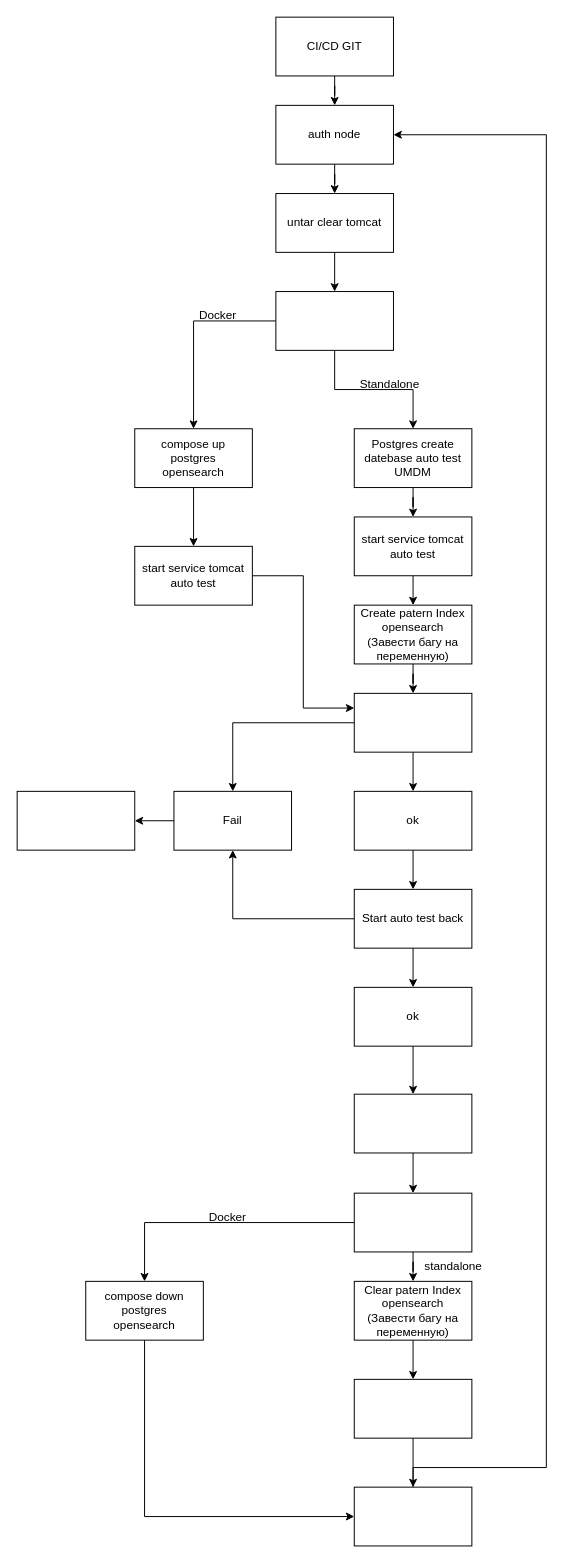
Some shapes in this 571 by 1563 pixel diagram are drawn without their labels. The centre of each missing label's shape, as x and y in pixels:
"drop data base auto test UMDM" belongs at (412,1408).
"Start auto test UI" belongs at (412,722).
"start new test" belongs at (412,1516).
"Stop service tomcat auto test" belongs at (412,1222).
"unzip UMDM to catalog tomcat" belongs at (334,320).
"Отчет куда-то выкинуть" belongs at (412,1123).
"Отчет/ Вывод в CI/CD как костыль" belongs at (75,820).
